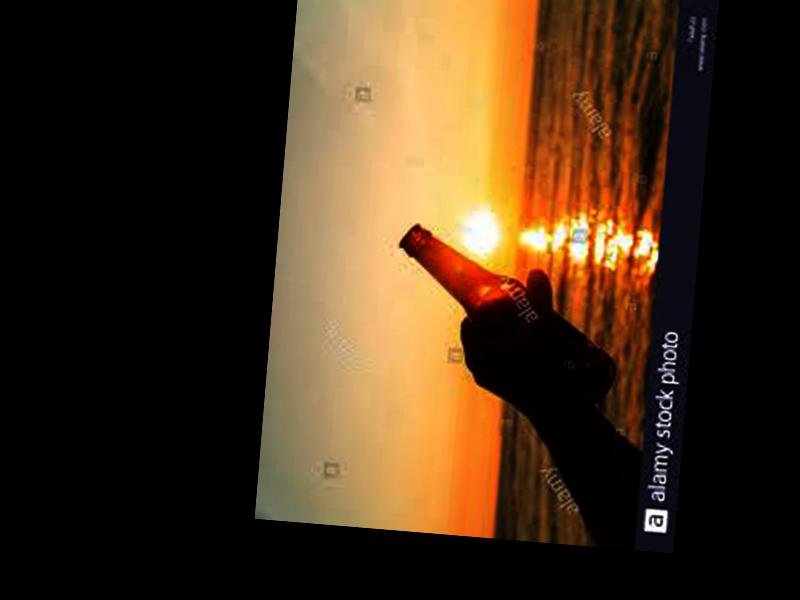Beer: (384, 223, 626, 410)
